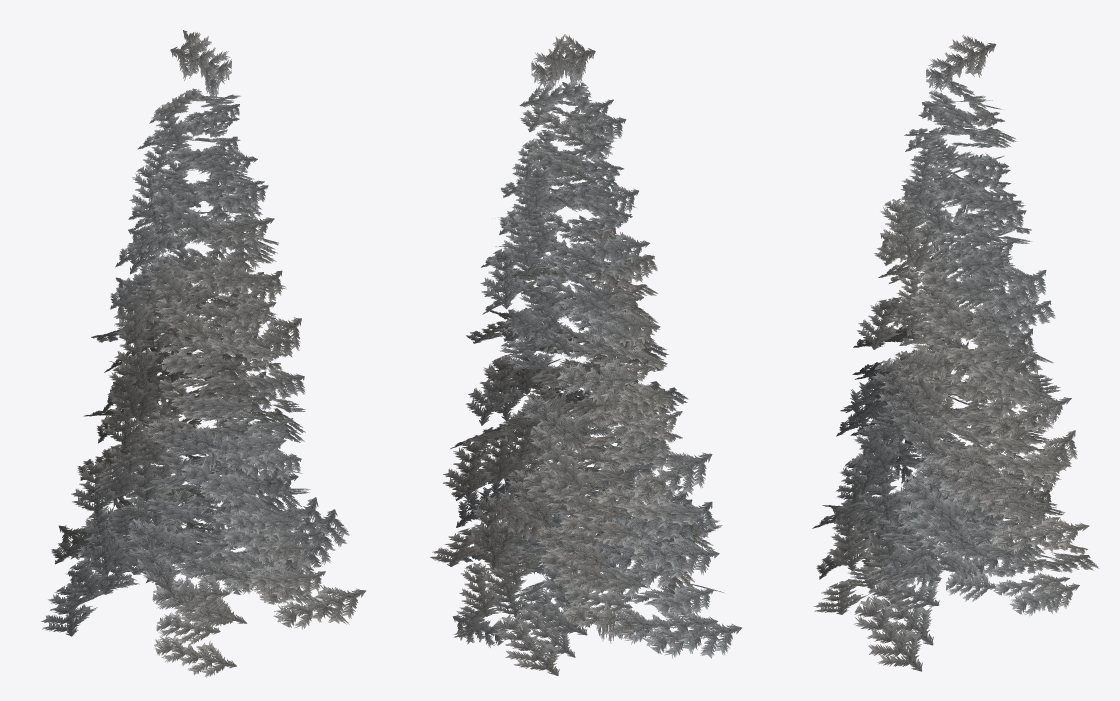
Rendered from fir_slim_l0.gltf.
3 renders of one model, left to right at view 1: azimuth 30°, elevation 25°; view 2: azimuth 150°, elevation 25°; view 3: azimuth 270°, elevation 25°, orthographic. The views are drawn at different scales.
Visible parts, largest first — view 1: fir_slim_l0; view 2: fir_slim_l0; view 3: fir_slim_l0.
Boxes of the visible parts, <box> form: fir_slim_l0: <box>41,30,366,677</box>; fir_slim_l0: <box>430,34,741,675</box>; fir_slim_l0: <box>812,35,1099,671</box>.
Size of the model in its own units: 7.47 by 14.67 by 7.09.
1 material, 1 textured.
